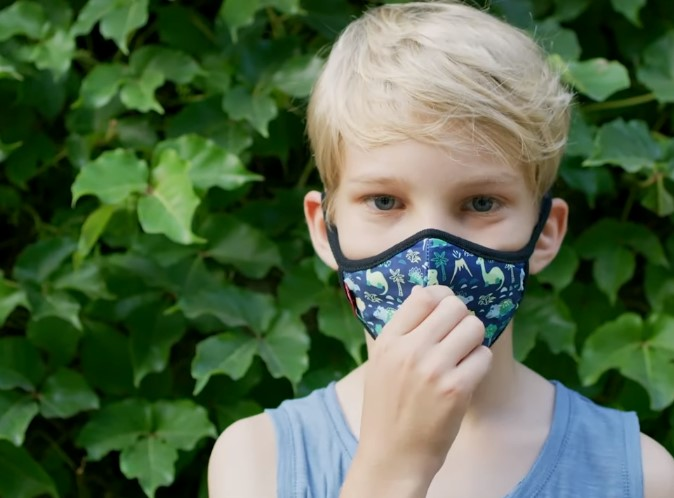face_with_mask: (316, 15, 568, 371)
